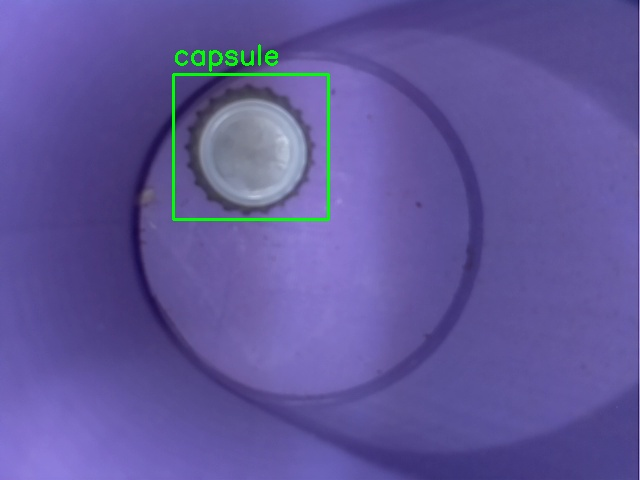capsule: (173, 74, 328, 219)
